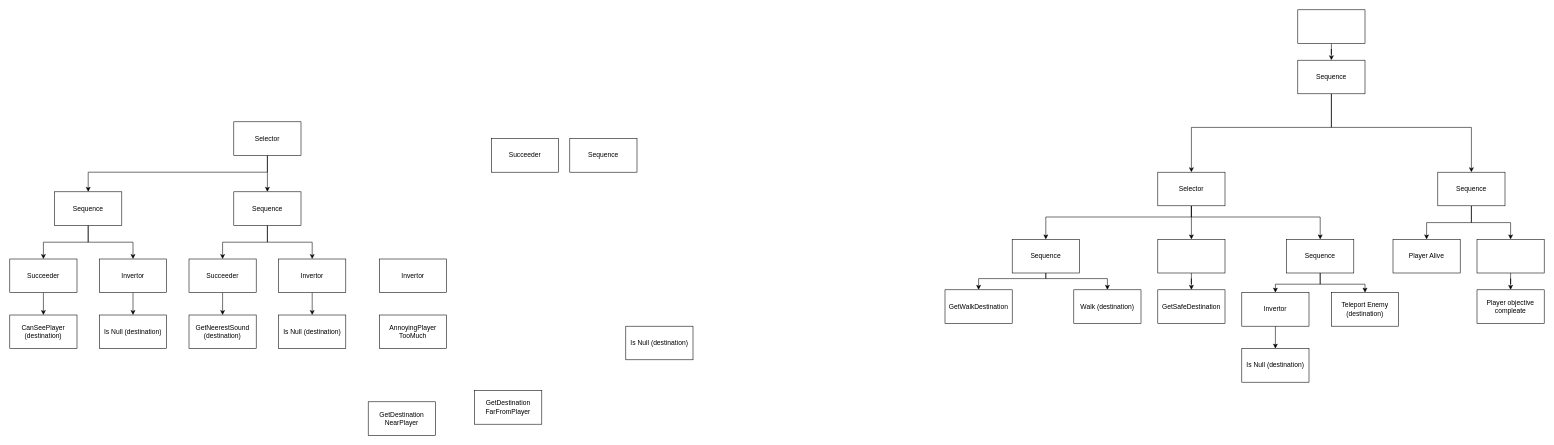
This 1554x445 diagram has some shape labels left out. The centre of each missing label's shape, as x and y in pixels:
"Failer" goes at (1191,256).
"Inverter" goes at (1510,256).
"Until False" goes at (1331,26).
